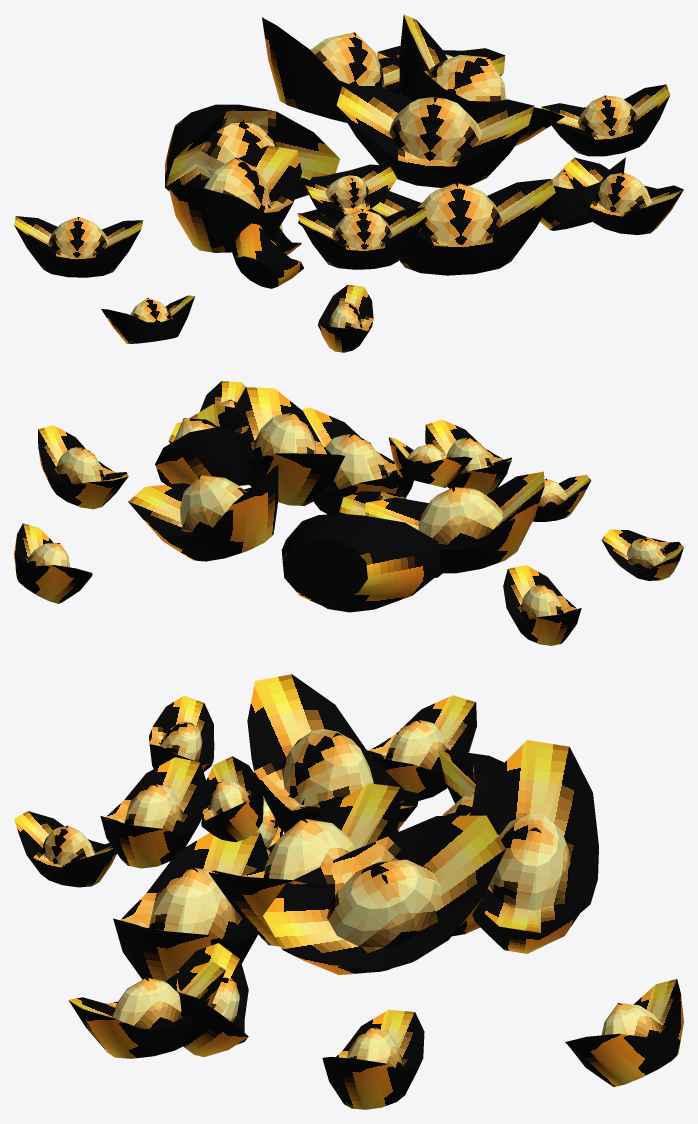
3 renders of one model, top to bottom at view 1: azimuth 30°, elevation 25°; view 2: azimuth 150°, elevation 25°; view 3: azimuth 270°, elevation 25°, orthographic. The views are drawn at different scales.
Parts seen in each view (by area): view 1: Cylinder009; view 2: Cylinder009; view 3: Cylinder009.
Part boxes in pixels (box(x1,y1,x2,y2)): Cylinder009: box(14, 14, 683, 352); Cylinder009: box(14, 381, 683, 645); Cylinder009: box(14, 674, 683, 1109).
Bounding box in the file's own units: 67.27 × 16.64 × 48.45.
